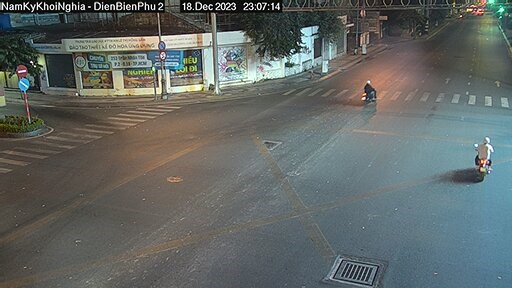motorbike: (456, 133, 504, 178), (355, 78, 382, 103)
